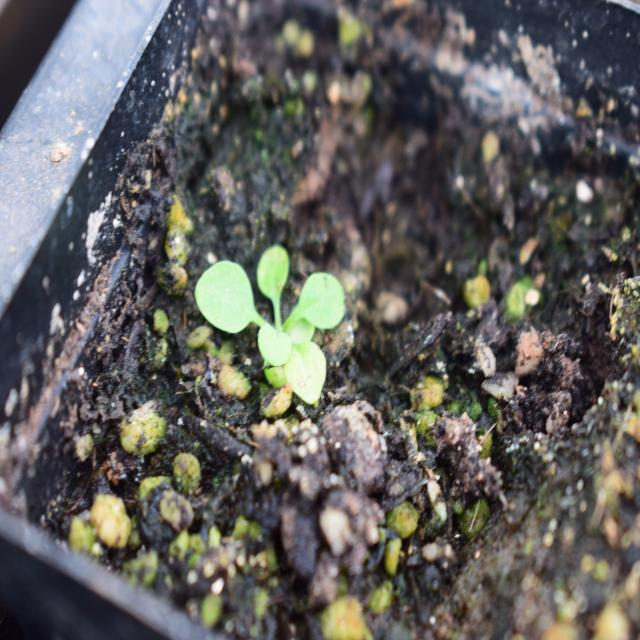Shepherd_Purse: (204, 240, 360, 398)
